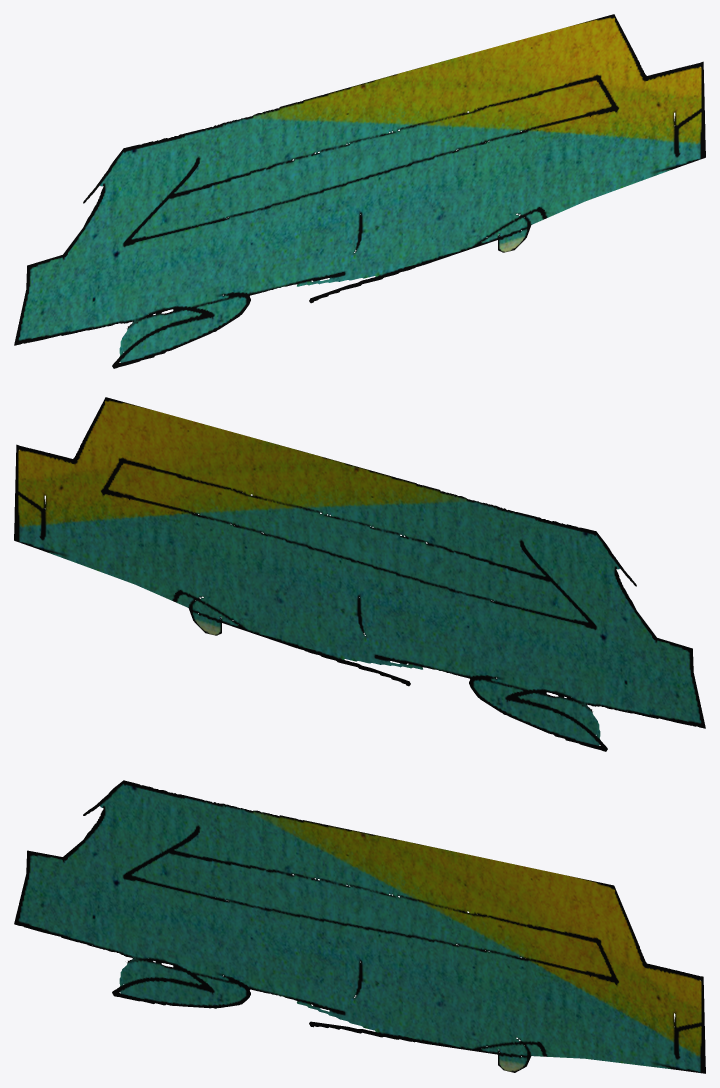
Rendered from car_02.fbx.
3 views of the same model, one above another, from view 1: azimuth 30°, elevation 25°; view 2: azimuth 150°, elevation 25°; view 3: azimuth 330°, elevation 25° (orthographic).
Parts seen in each view (by area): view 1: 車_02; view 2: 車_02; view 3: 車_02.
Part boxes in pixels (x1=…): 車_02: x1=14, y1=14, x2=705, y2=368; 車_02: x1=14, y1=397, x2=705, y2=751; 車_02: x1=14, y1=780, x2=705, y2=1073.
Bounding box in the file's own units: 417 × 134 × 1.6e-05.
1 material, 1 textured.
